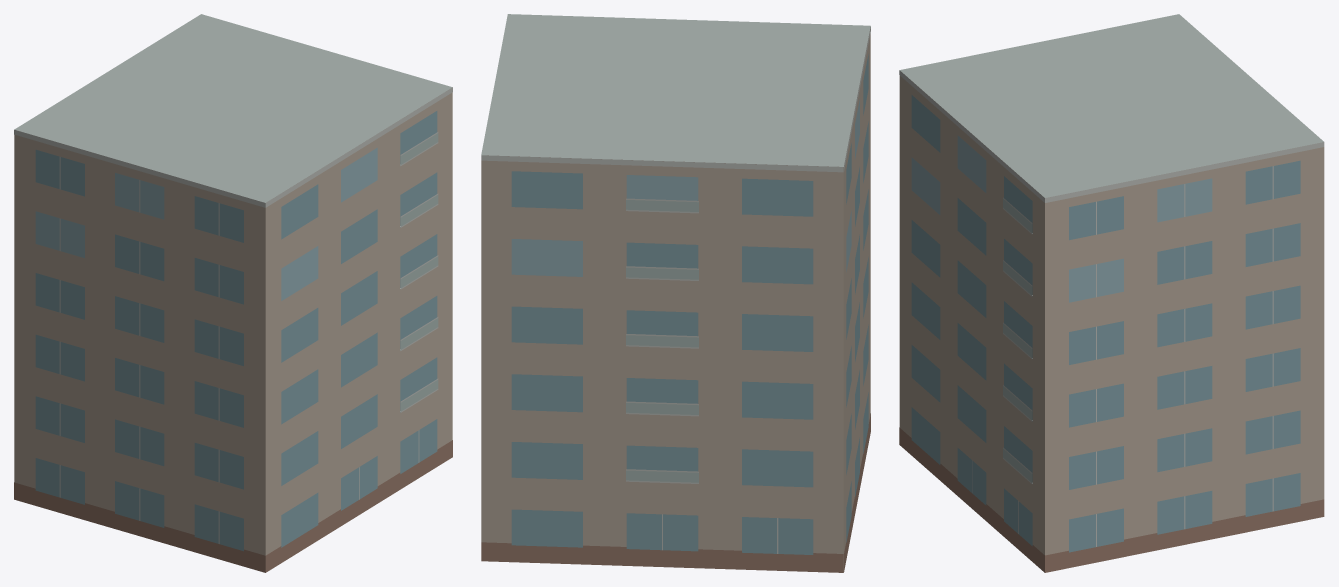
File: survey-upis-32731906.glb
3 renders of one model, left to right at view 1: azimuth 30°, elevation 25°; view 2: azimuth 150°, elevation 25°; view 3: azimuth 270°, elevation 25°, orthographic. The views are drawn at different scales.
Parts seen in each view (by area): view 1: survey-upis-32731906.tmp; view 2: survey-upis-32731906.tmp; view 3: survey-upis-32731906.tmp.
Part boxes in pixels (x1,y1,x2,y2): survey-upis-32731906.tmp: (14,14,452,572); survey-upis-32731906.tmp: (481,14,870,572); survey-upis-32731906.tmp: (899,14,1324,572).
Size of the model in its own units: 19.29 by 18.3 by 18.81.
